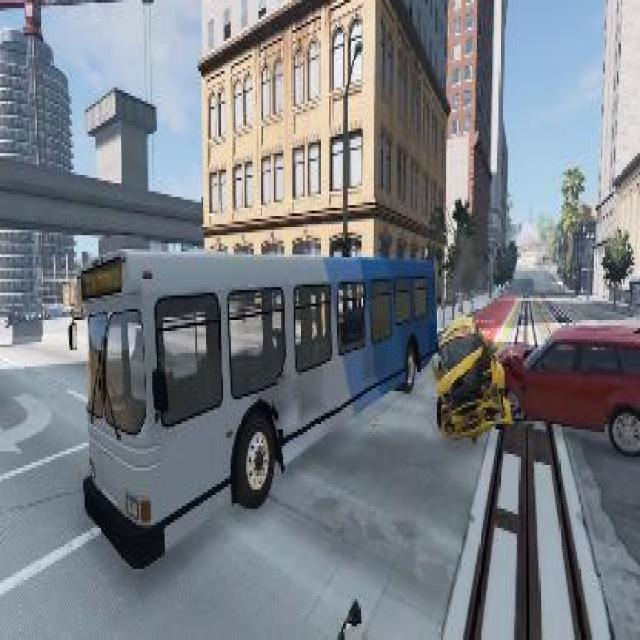accident: (429, 309, 640, 465)
